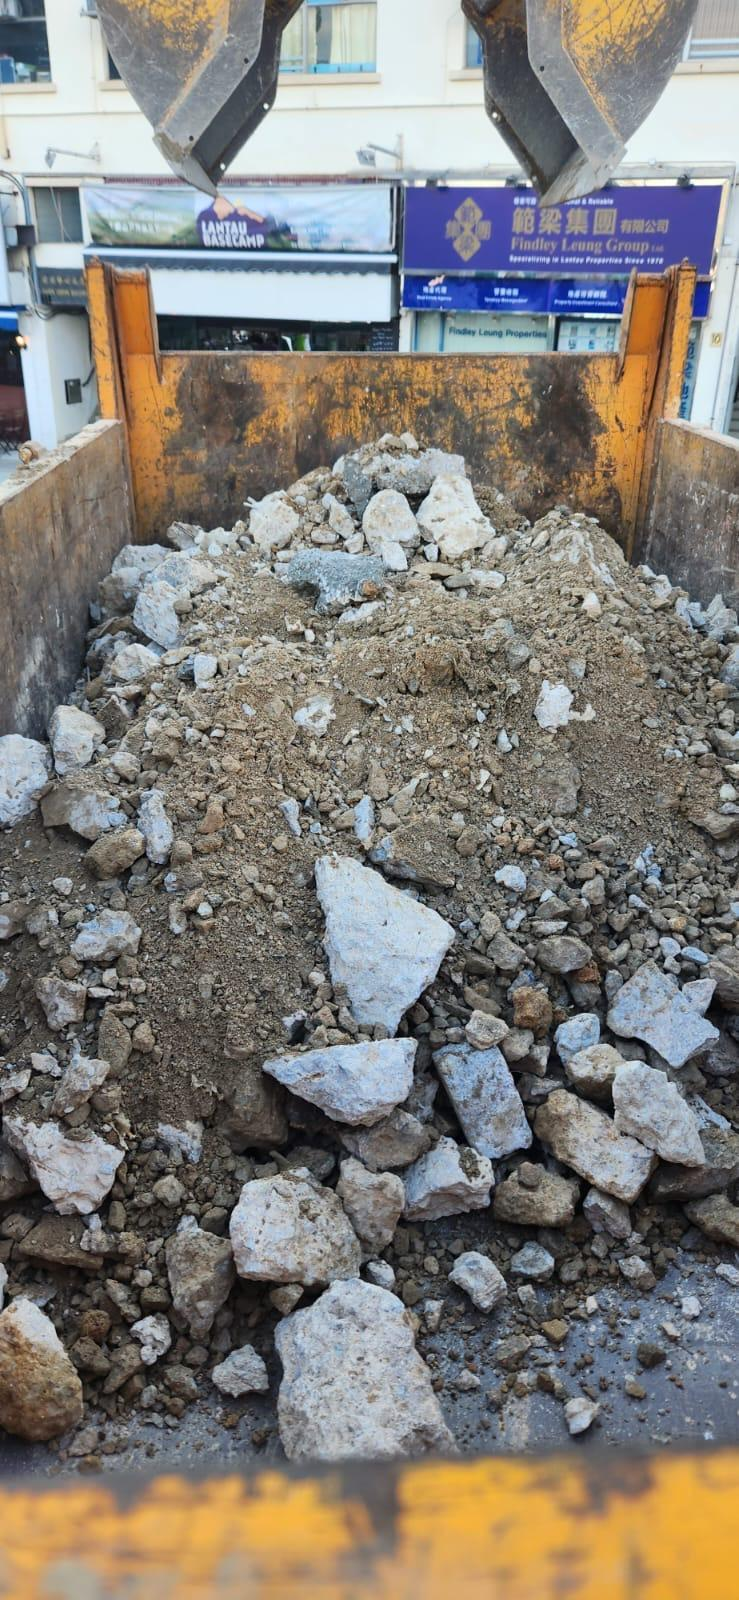dry: (2, 435, 728, 1458)
